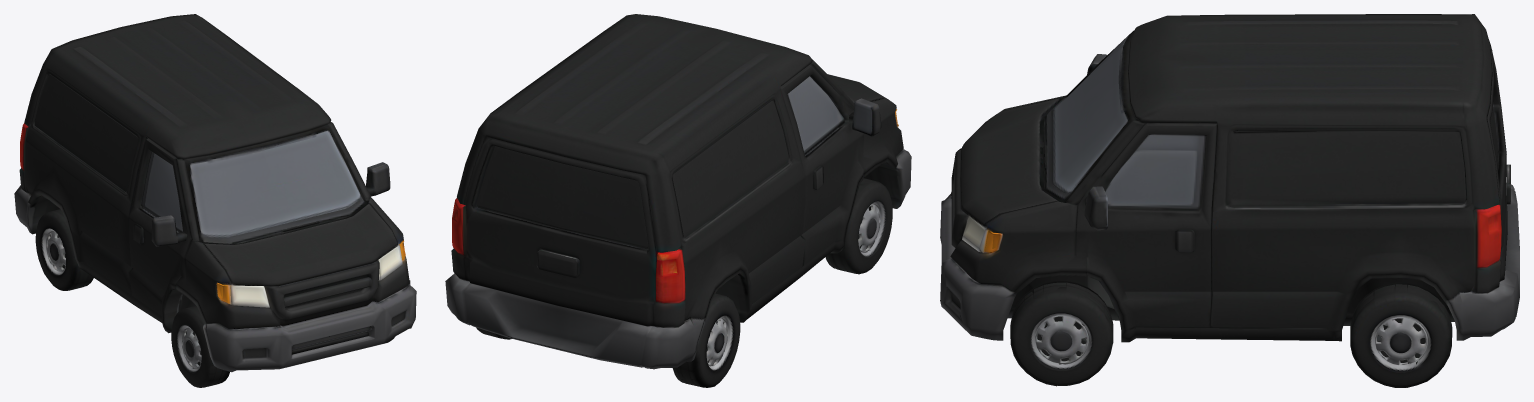
File: GetawayVan.glb
3 views of the same model, side by side, from view 1: azimuth 30°, elevation 25°; view 2: azimuth 150°, elevation 25°; view 3: azimuth 270°, elevation 25° (orthographic). The views are drawn at different scales.
Parts seen in each view (by area): view 1: tripo_node_7d914c7a-2009-4af1-9b8c-1d942f5bf552; view 2: tripo_node_7d914c7a-2009-4af1-9b8c-1d942f5bf552; view 3: tripo_node_7d914c7a-2009-4af1-9b8c-1d942f5bf552.
Boxes of the visible parts, <box> form: tripo_node_7d914c7a-2009-4af1-9b8c-1d942f5bf552: <box>14,14,416,387</box>; tripo_node_7d914c7a-2009-4af1-9b8c-1d942f5bf552: <box>445,14,911,387</box>; tripo_node_7d914c7a-2009-4af1-9b8c-1d942f5bf552: <box>940,14,1519,387</box>.
Size of the model in its own units: 0.5952 by 0.5239 by 0.9995.
Materials: 1 (1 with a texture image).
